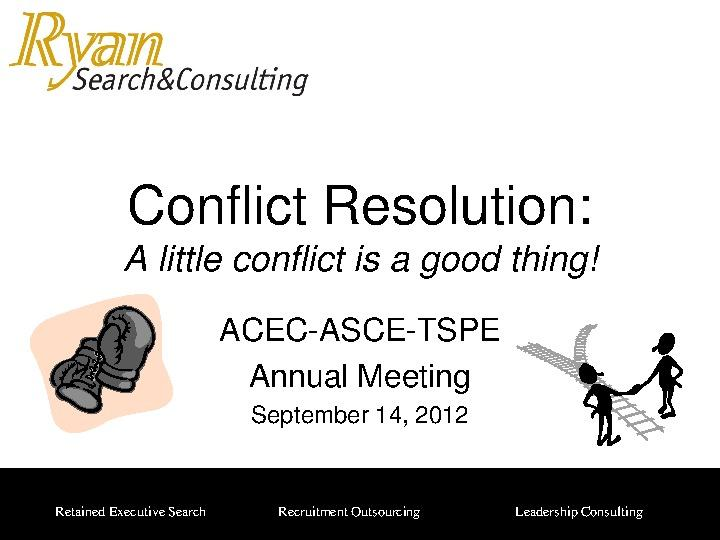subtitle: (111, 154, 623, 304), (195, 308, 558, 446)
title: (2, 4, 336, 110)
